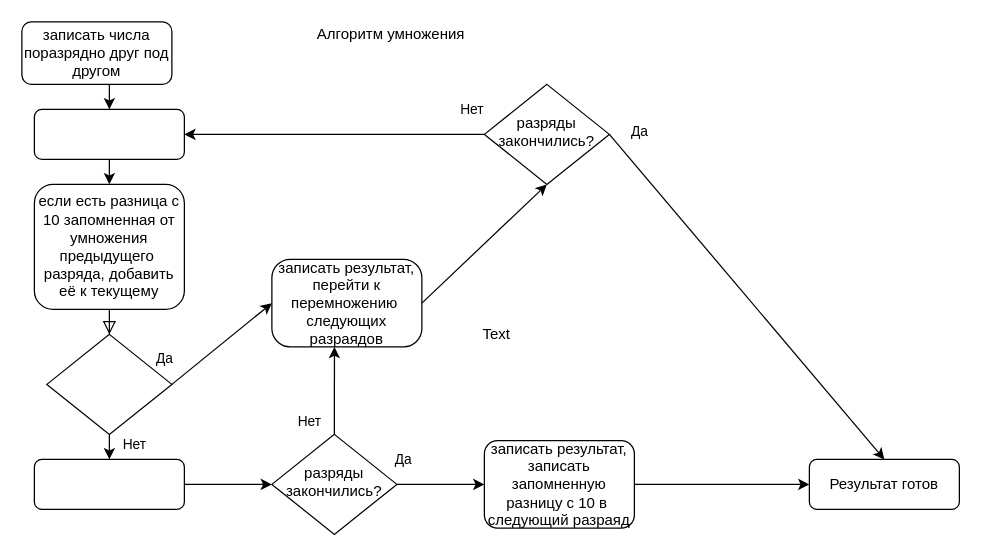
The diagram is 981 pixels wide and 556 high, and some of its shapes have lost their labels. Here are the shapes that lost their labels. From the top down, the centre of each, then its label:
At point (108, 133): "перемножить по очереди разряды начиная с младшего".
At point (109, 383): "результат меньше 10".
At point (108, 483): "Запомнить разницу с 10".
